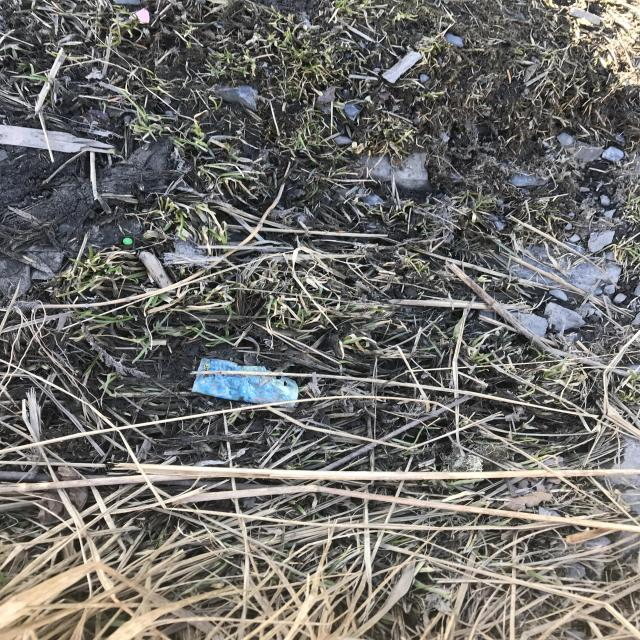litter: (479, 255, 545, 336), (67, 163, 111, 194), (317, 380, 326, 388)
